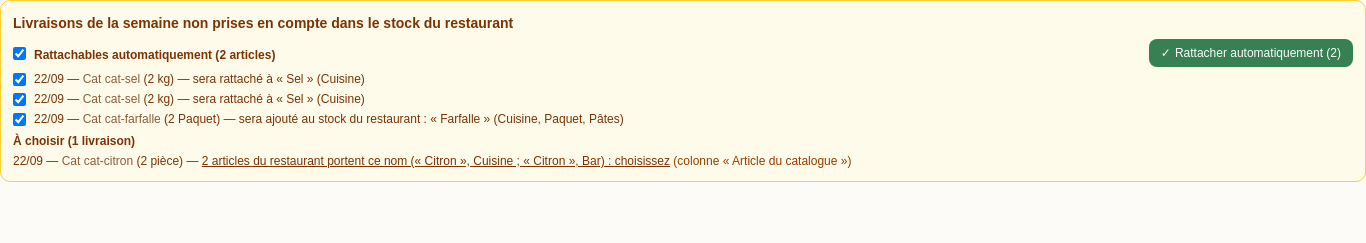
Test case: bandeau — rattachement automatique › compte-rendu vide (déjà fait par quelqu'un d'autre) : dit « rien à faire », pas « 0 · 0 · 0 »
The width and height of the screenshot is (1366, 243).
Click the button "✓ Rattacher automatiquement (2)" at (1251, 53), box [1149,39,1353,67]
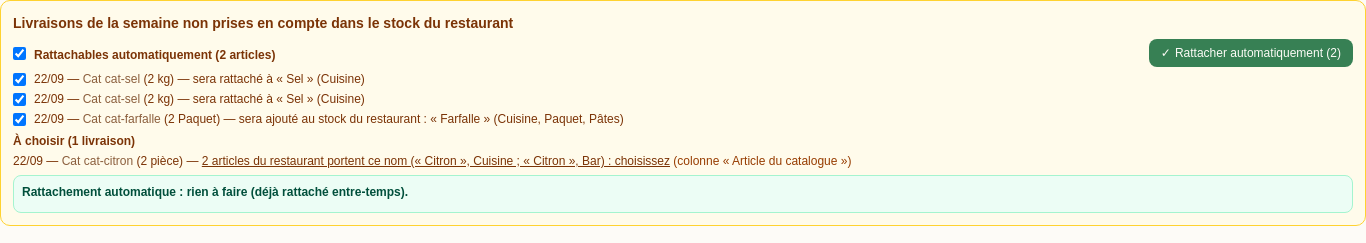
Expected: the message "Rattachement automatique : rien à faire (déjà rattaché entre-temps)." is shown, [13,175,1353,213]
